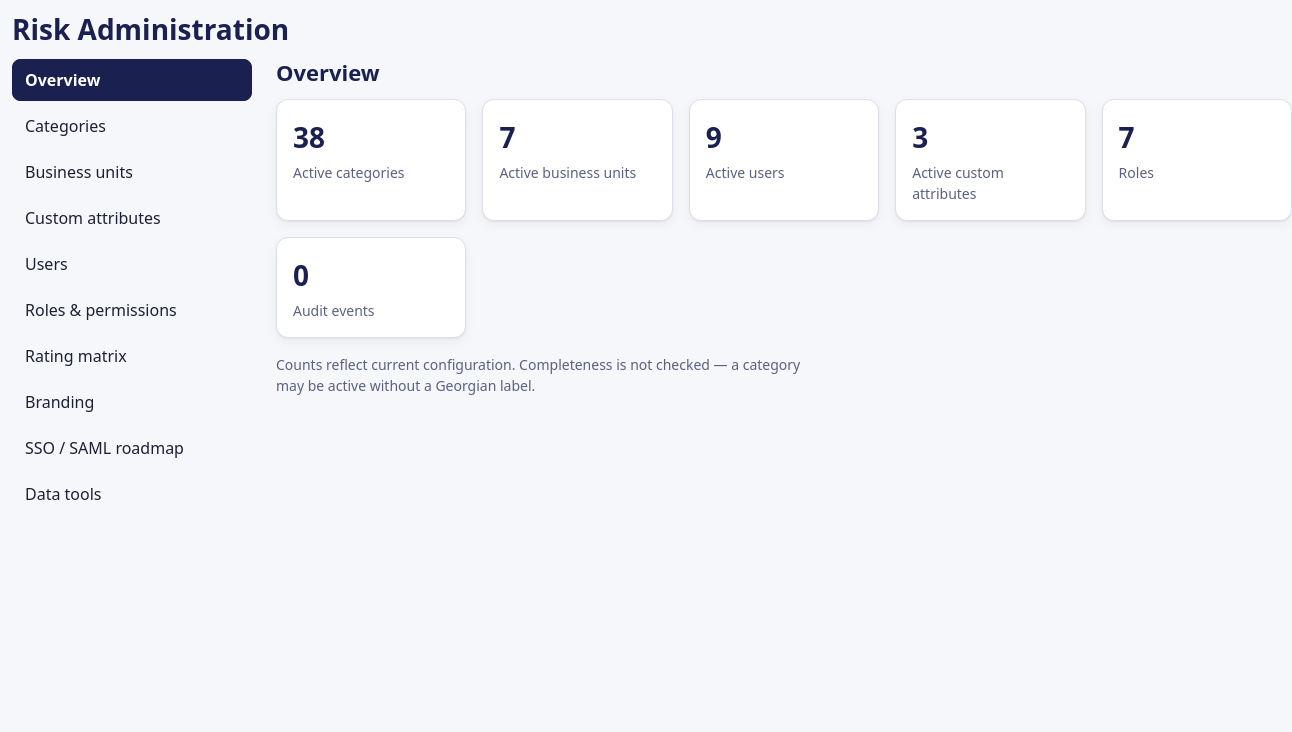
Test: branding section › removes the logo back to the placeholder
Click the button "Branding" at (132, 402), box [12,381,252,423]
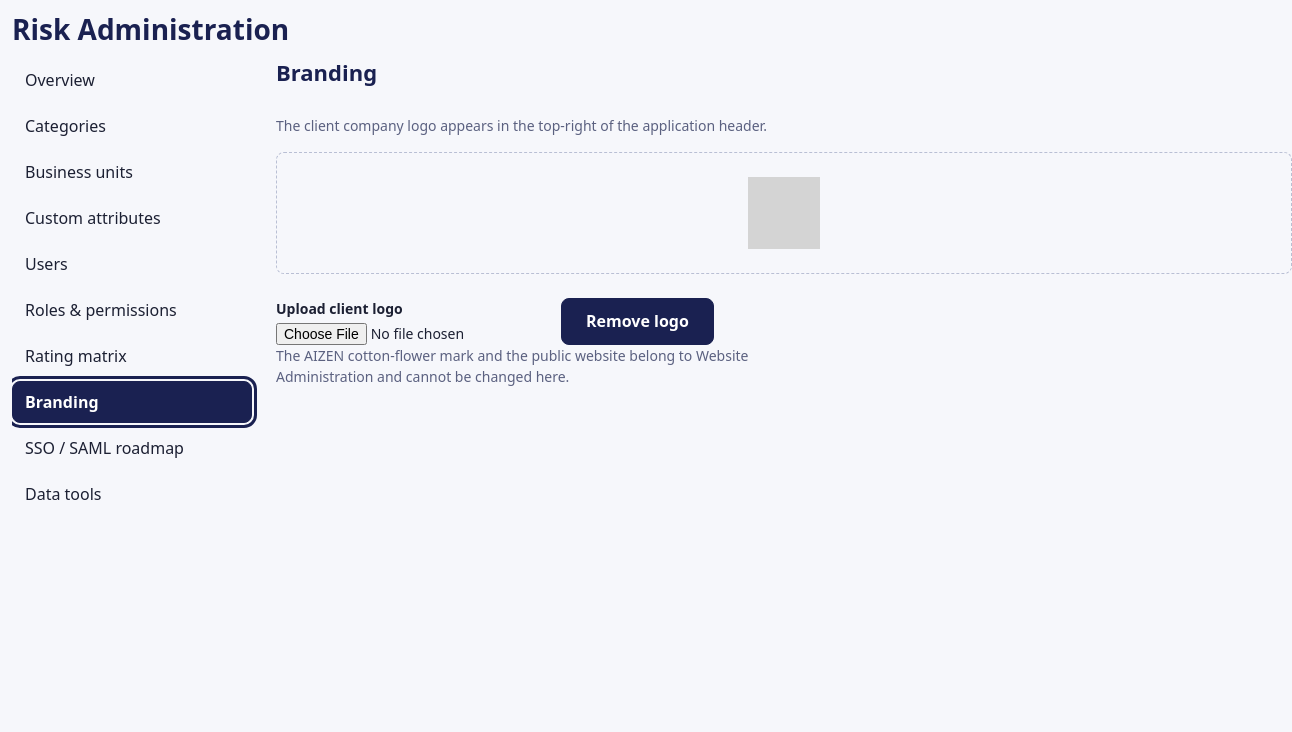
Click the button "Remove logo" at (637, 321), box [561,298,714,344]
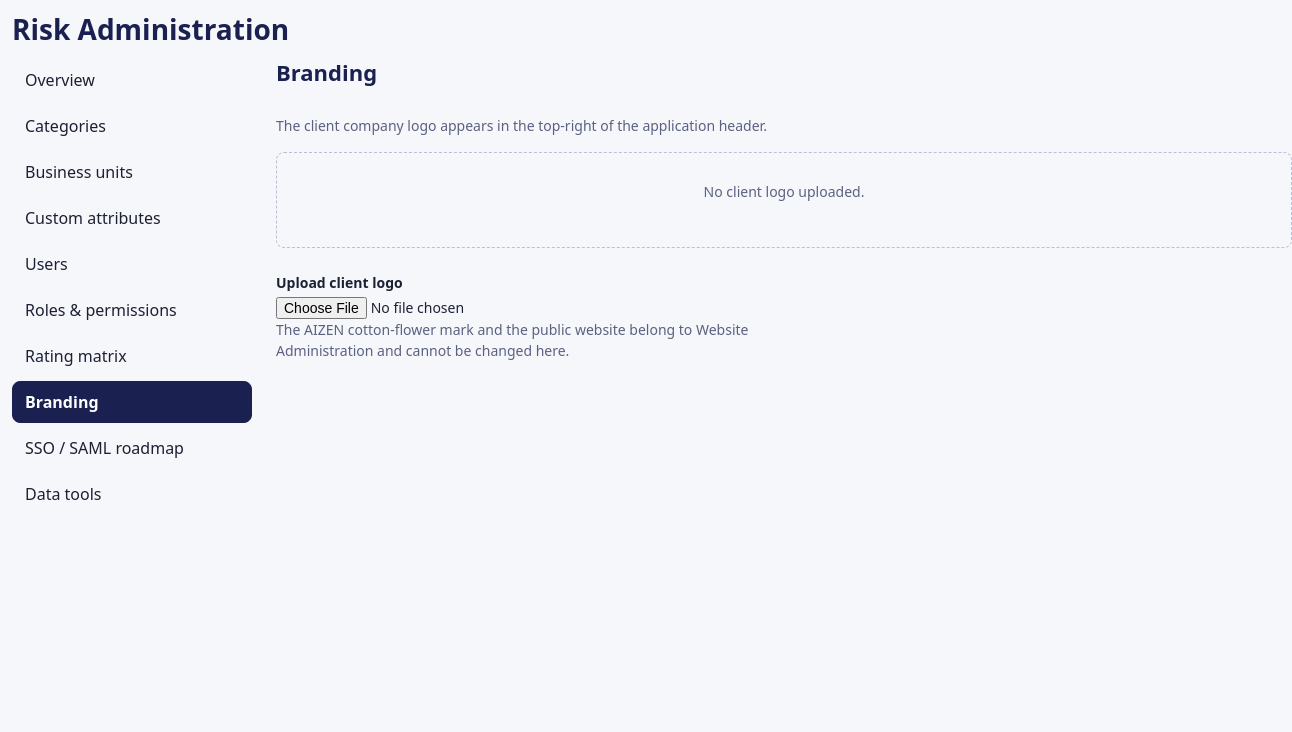
Now the text "No client logo uploaded." is shown, box [704,181,864,202]
